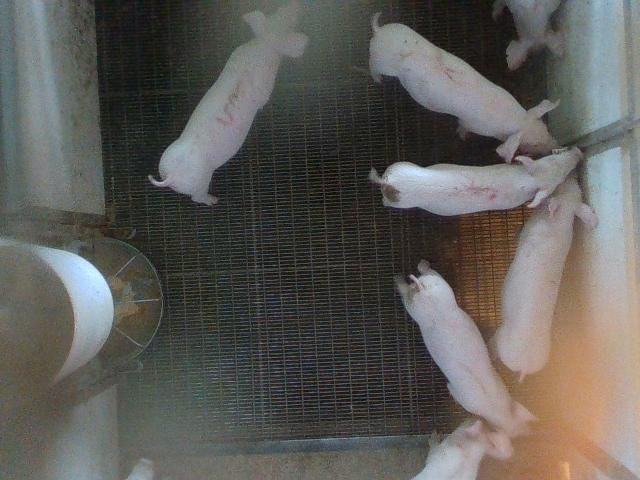pig-3: (149, 2, 308, 204)
pig-5: (369, 148, 582, 216)
